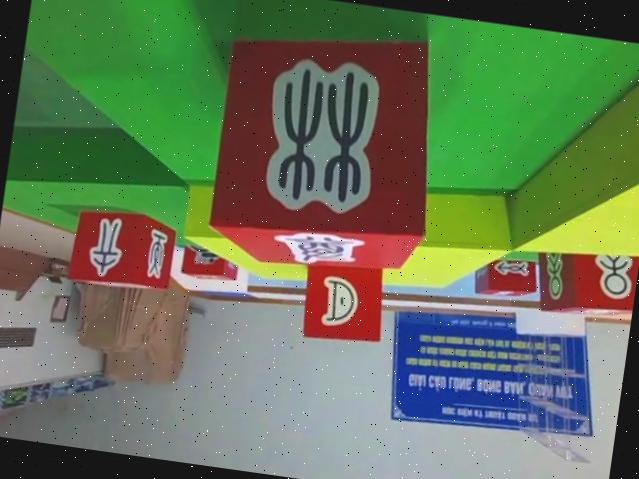R1: (181, 237, 242, 286)
R2 Fake: (195, 9, 450, 287), (65, 196, 180, 296)
R2 Real: (532, 236, 639, 327), (295, 253, 393, 349), (471, 249, 541, 303)
